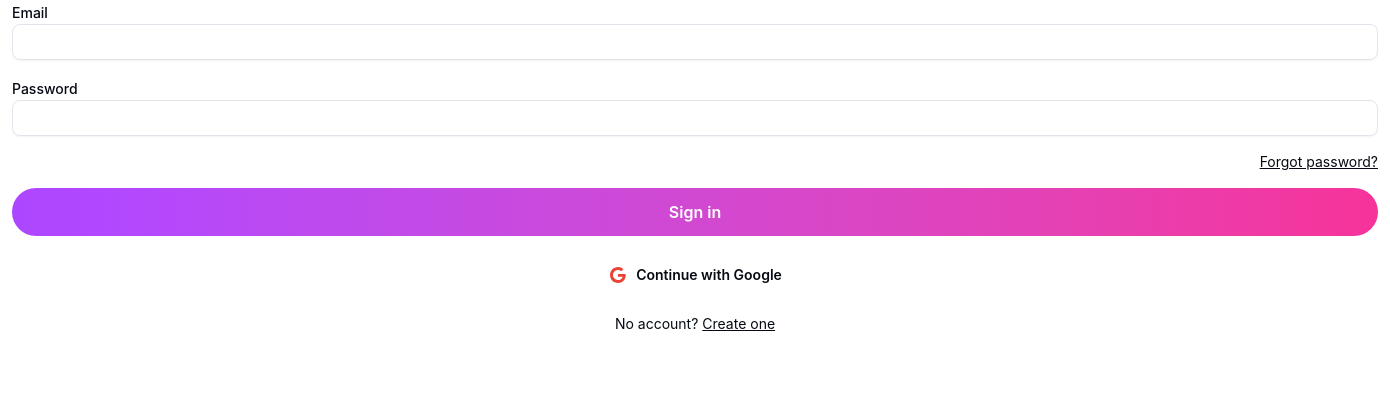
LoginForm › shows an error when login fails
Type "a@b.com" into the field labelled "Email" at x=695, y=42, box [12,24,1378,60]
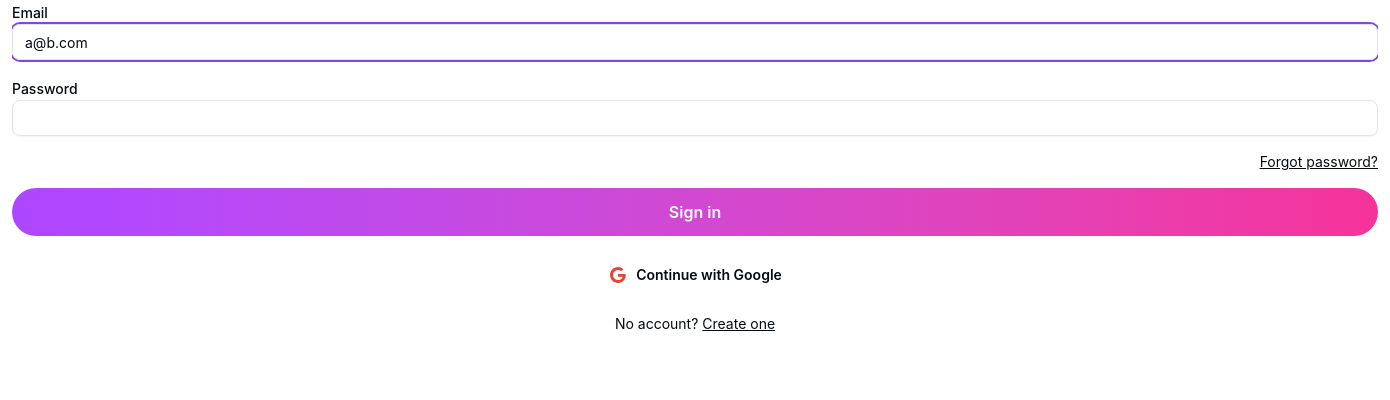
Type "secret123" into the password field labelled "Password" at x=695, y=118, box [12,100,1378,136]
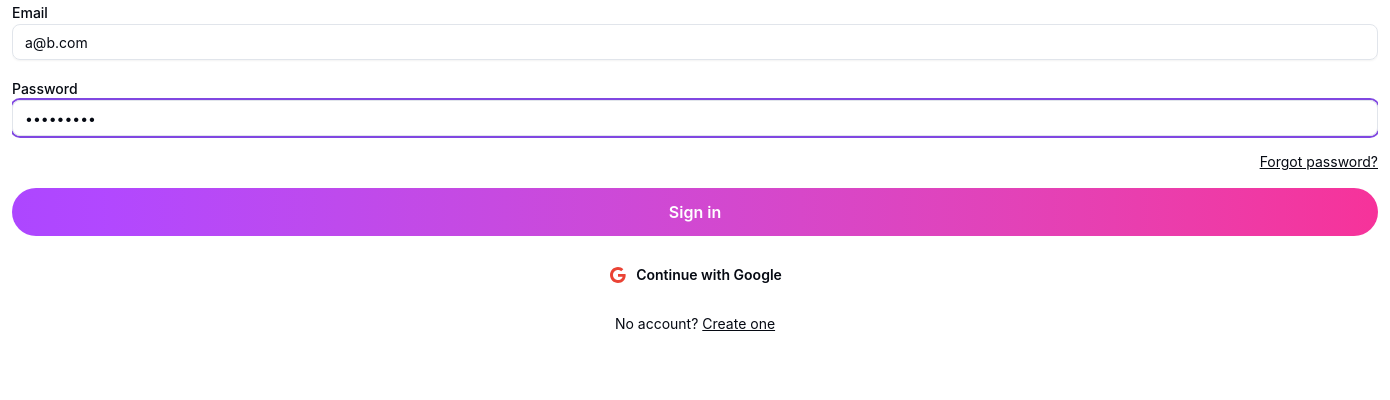
Click the button "Sign in" at x=695, y=212, box [12,188,1378,236]
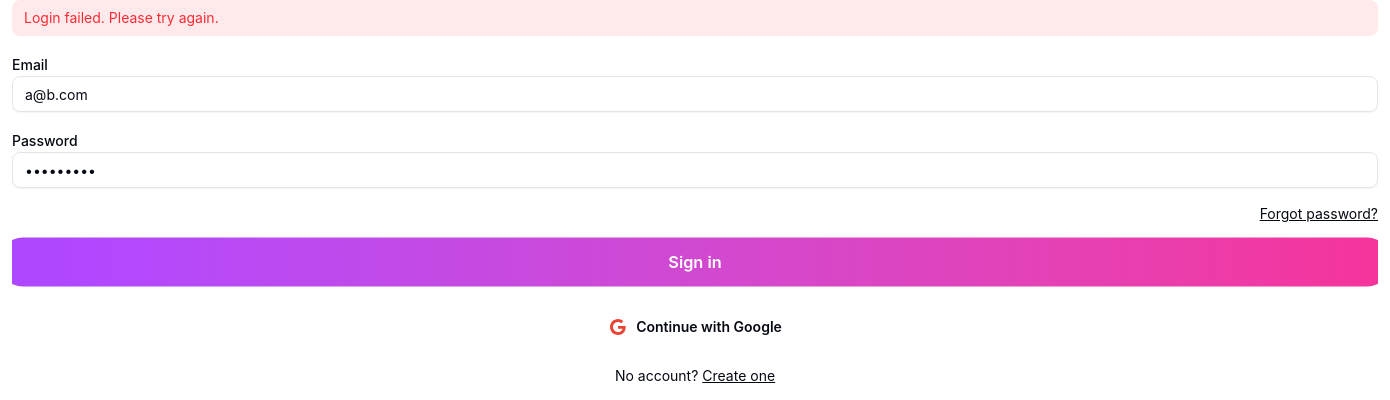
expect the message shows "Login failed": met, box [24,9,219,26]
